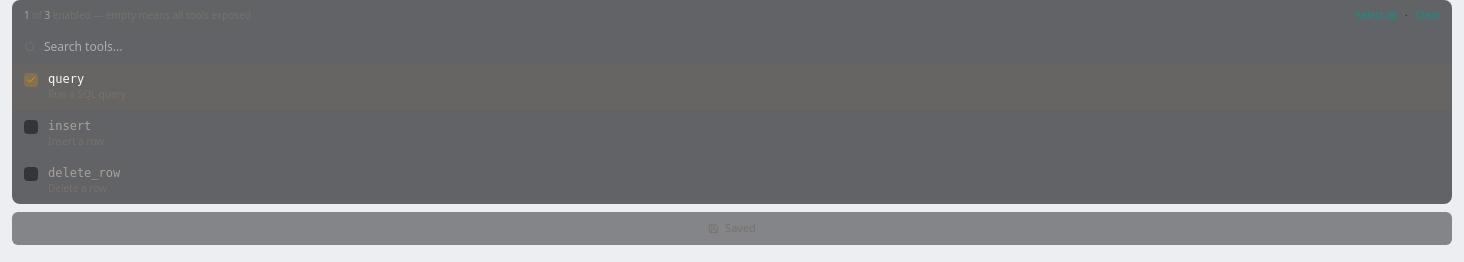
ToolsEditor › blocks saving an empty selection and offers an in-place Discard
Click the button with aria-label "clear all tools": (1428, 16) [1416,8,1440,23]
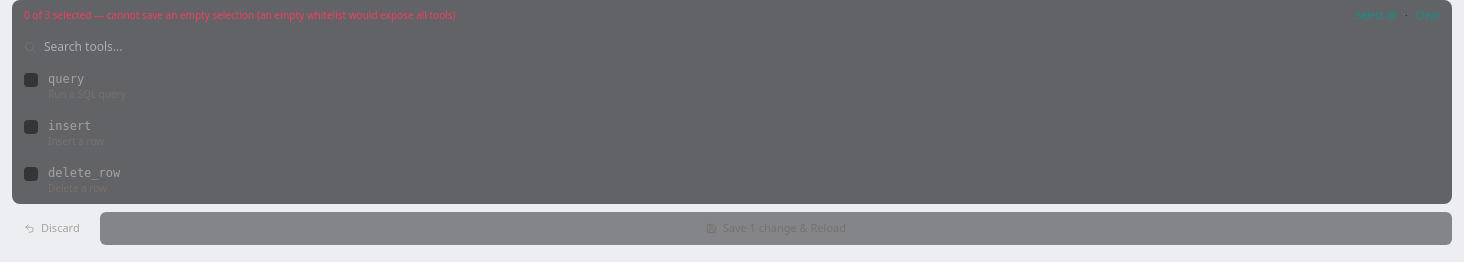
Expected: the button "Save 1 change & Reload" is disabled, [100,212,1452,244]
Now the text "cannot save an empty selection" is shown, box [50,8,456,22]
Click the button with aria-label "discard unsaved tool changes": (52, 228) [12,212,92,244]
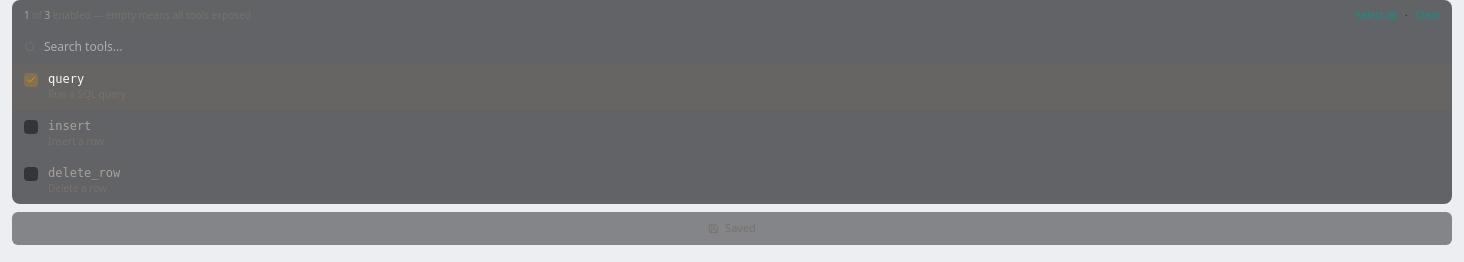
Expected: the button "Saved" is disabled, [12,212,1452,244]
Now the text "cannot save an empty selection" is gone
